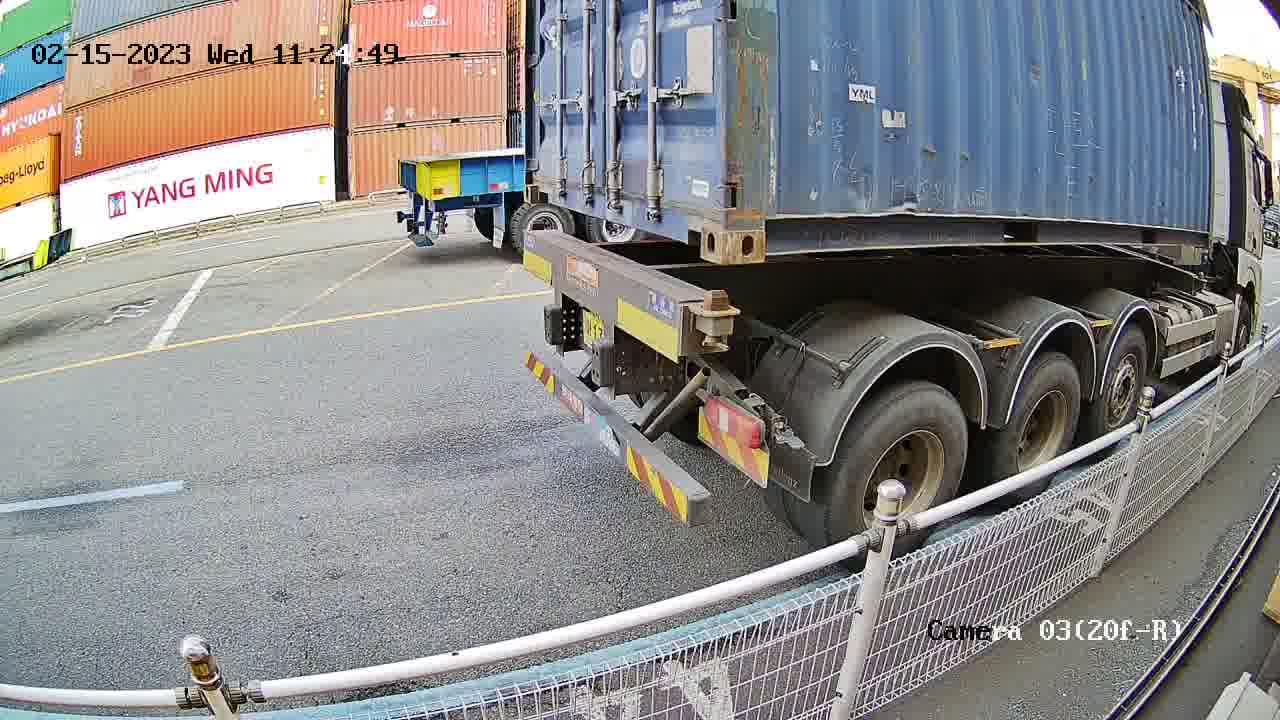Chassis: (523, 234, 689, 358)
Cone: (690, 291, 731, 353)
Hole_L: (723, 171, 804, 265), (523, 156, 555, 203)
Hole_R: (662, 171, 725, 266)
Tire: (832, 387, 969, 536), (1006, 362, 1086, 471), (1094, 333, 1151, 431)
